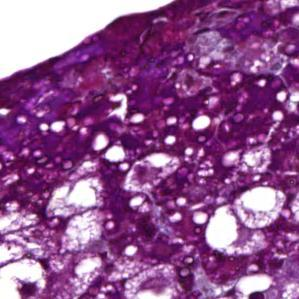ballooning: (202, 184, 288, 259), (44, 172, 110, 258)
